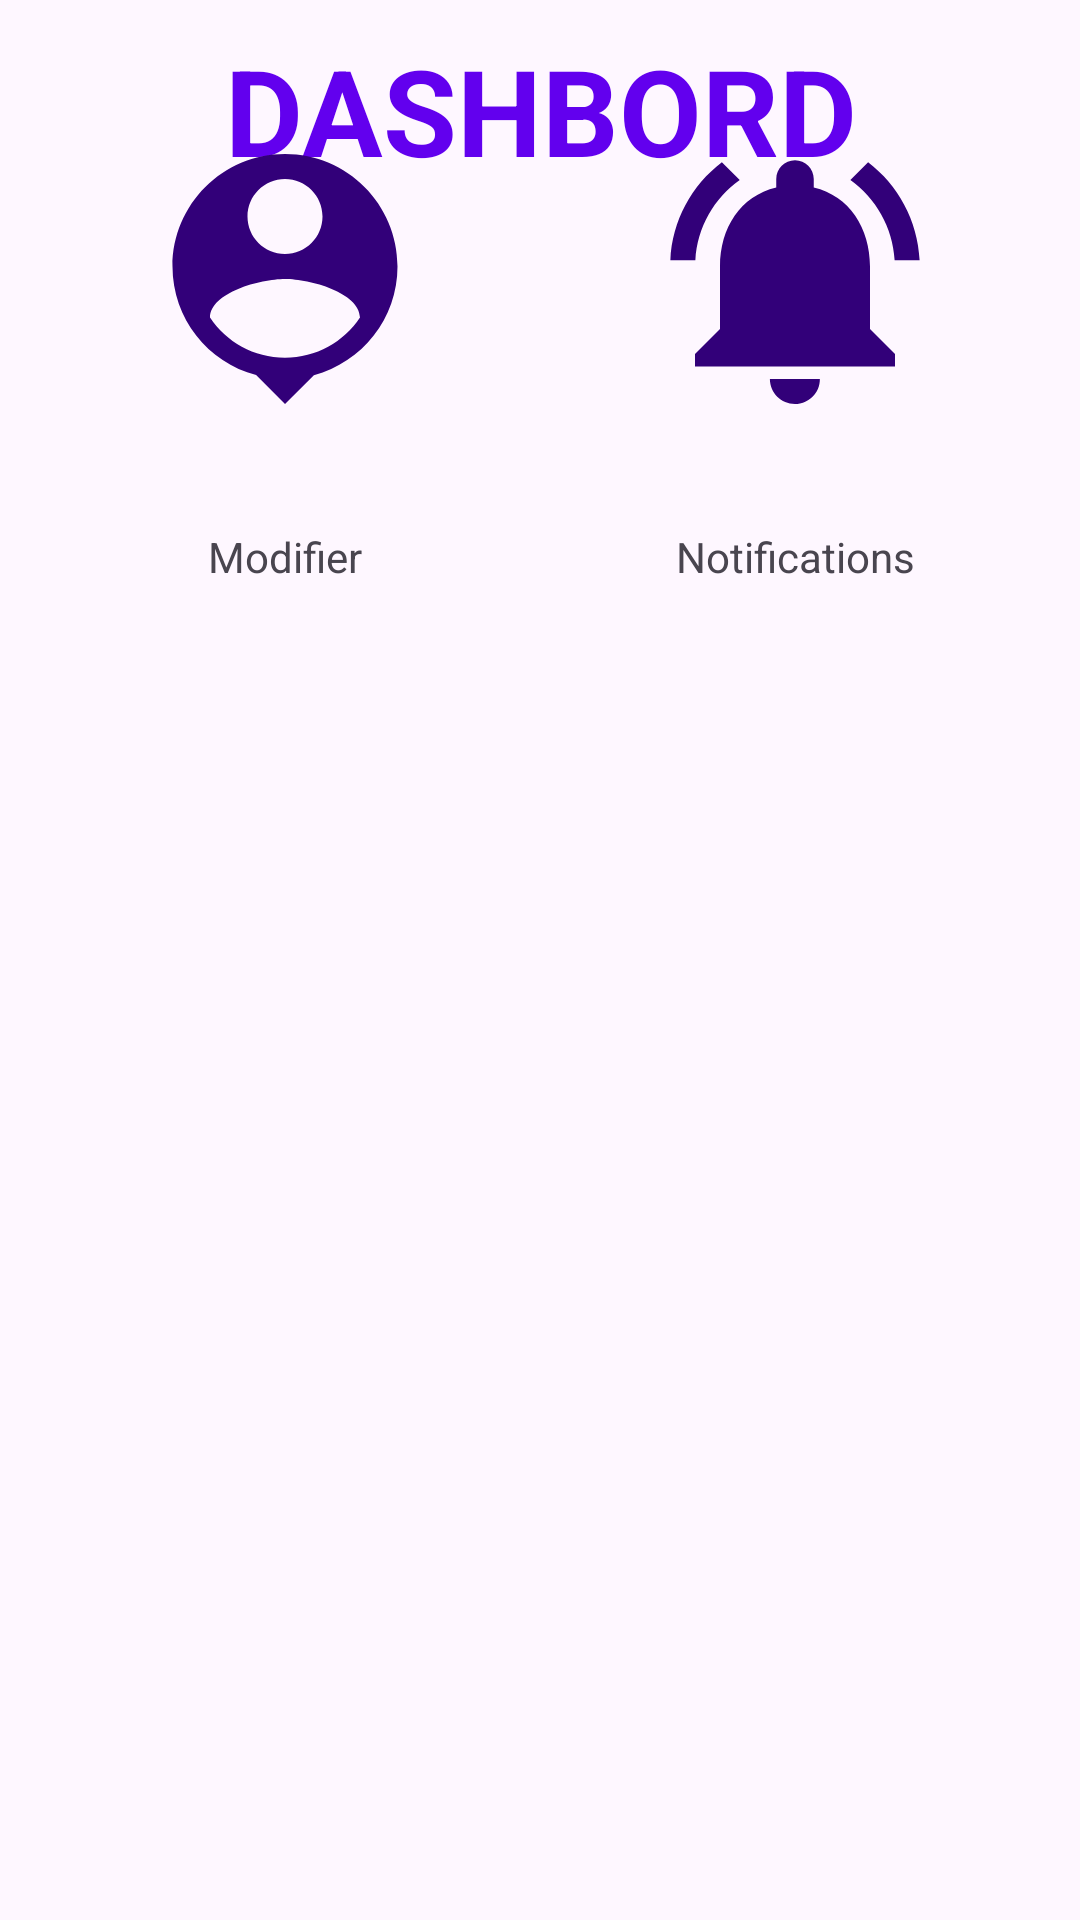

Icons on this 1080 x 1920 Android screen, each with its box as (x1, y1, x2, y2):
person pin: (172, 70, 453, 404)
